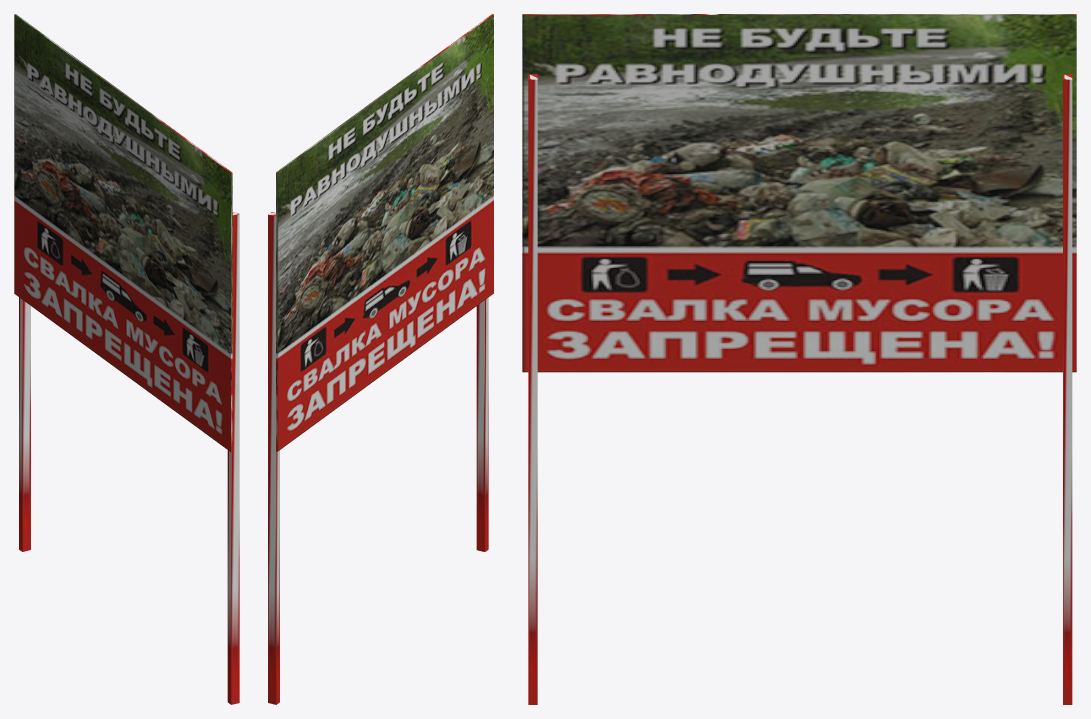
The model's file is r402_beregite_les3.FBX.
3 renders of one model, left to right at view 1: azimuth 30°, elevation 25°; view 2: azimuth 150°, elevation 25°; view 3: azimuth 270°, elevation 25°, orthographic. The views are drawn at different scales.
Parts seen in each view (by area): view 1: r402_beregite_les3; view 2: r402_beregite_les3; view 3: r402_beregite_les3.
Part boxes in pixels (x1=…): r402_beregite_les3: x1=14, y1=14, x2=239, y2=704; r402_beregite_les3: x1=268, y1=14, x2=493, y2=704; r402_beregite_les3: x1=522, y1=14, x2=1076, y2=704.
Size of the model in its own units: 6.74 by 226 by 307.
